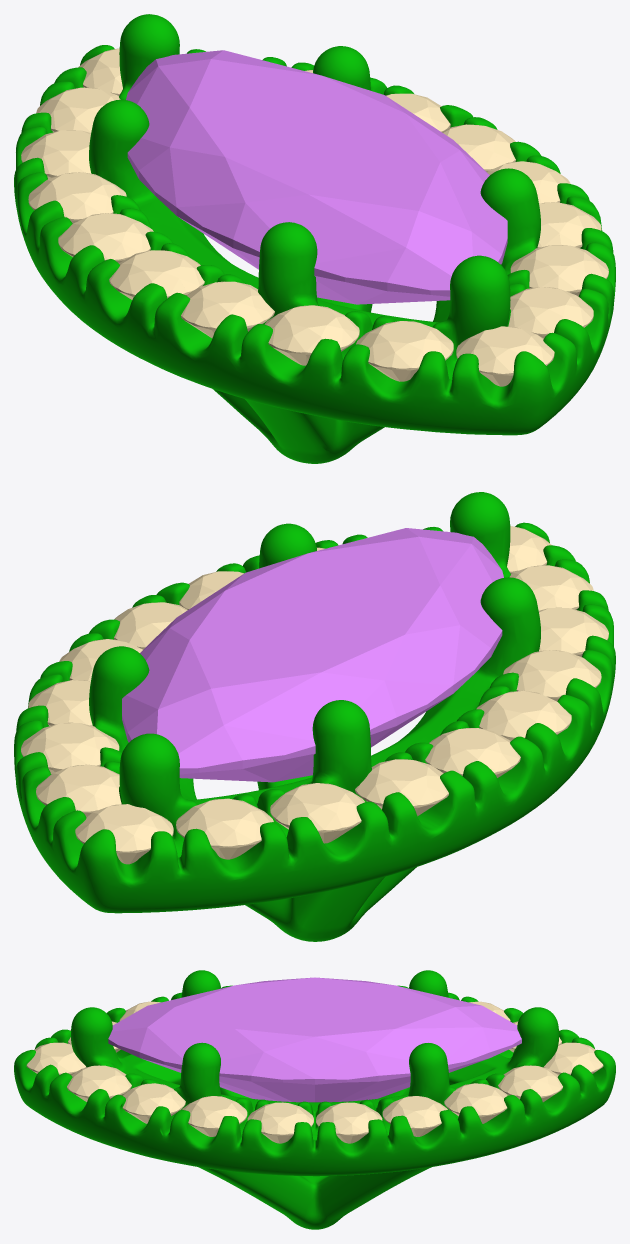
3 renders of one model, top to bottom at view 1: azimuth 30°, elevation 25°; view 2: azimuth 150°, elevation 25°; view 3: azimuth 270°, elevation 25°, orthographic. The views are drawn at different scales.
Parts seen in each view (by area): view 1: Metal01, Diamond_Marquise, Diamond_Round.003, Diamond_Round.004, Diamond_Round.005, Diamond_Round, Diamond_Round.002, Diamond_Round.013, Diamond_Round.007, Diamond_Round.014, Diamond_Round.008, Diamond_Round.015 (+6 smaller); view 2: Metal01, Diamond_Marquise, Diamond_Round.016, Diamond_Round.015, Diamond_Round.014, Diamond_Round.013, Diamond_Round.017, Diamond_Round, Diamond_Round.010, Diamond_Round.005, Diamond_Round.009, Diamond_Round.004 (+6 smaller); view 3: Metal01, Diamond_Marquise, Diamond_Round.001, Diamond_Round.012, Diamond_Round.007, Diamond_Round.010, Diamond_Round.006, Diamond_Round.011, Diamond_Round.009, Diamond_Round.008, Diamond_Round.002, Diamond_Round.017.
Part boxes in pixels (x1,y1,x2,y2): Metal01: (14,14,615,463); Diamond_Marquise: (126,50,507,304); Diamond_Round.003: (356,321,453,381); Diamond_Round.004: (264,305,359,365); Diamond_Round.005: (181,281,274,338); Diamond_Round: (109,250,204,299); Diamond_Round.002: (456,326,554,386); Diamond_Round.013: (58,213,153,263); Diamond_Round.007: (510,245,608,296); Diamond_Round.014: (28,172,126,223); Diamond_Round.008: (508,287,593,338); Diamond_Round.015: (21,130,91,179); Metal01: (14,492,615,941); Diamond_Marquise: (122,528,503,782); Diamond_Round.016: (176,798,273,859); Diamond_Round.015: (270,783,364,843); Diamond_Round.014: (355,759,448,816); Diamond_Round.013: (425,728,520,777); Diamond_Round.017: (75,804,173,864); Diamond_Round: (476,690,571,740); Diamond_Round.010: (21,722,119,774); Diamond_Round.005: (503,650,601,701); Diamond_Round.009: (36,764,121,816); Diamond_Round.004: (538,607,608,656); Metal01: (14,970,615,1229); Diamond_Marquise: (108,977,521,1102); Diamond_Round.001: (247,1102,313,1143); Diamond_Round.012: (316,1102,382,1143); Diamond_Round.007: (122,1083,185,1123); Diamond_Round.010: (444,1083,507,1123); Diamond_Round.006: (182,1096,247,1136); Diamond_Round.011: (382,1096,447,1136); Diamond_Round.009: (498,1065,562,1102); Diamond_Round.008: (67,1065,131,1101); Diamond_Round.002: (26,1042,86,1075); Diamond_Round.017: (543,1042,603,1075).
Size of the model in its own units: 8.76 by 5.82 by 14.49.
